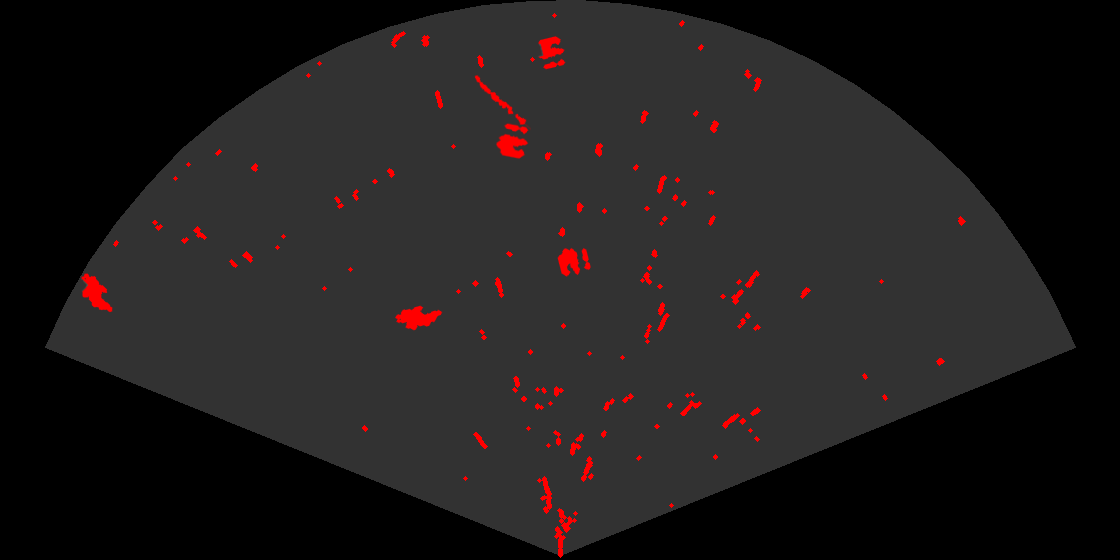AUV: (80, 272, 114, 314), (394, 304, 444, 332)
ball: (495, 122, 530, 160), (556, 246, 592, 278), (537, 35, 567, 71)
chain: (473, 73, 531, 132)
